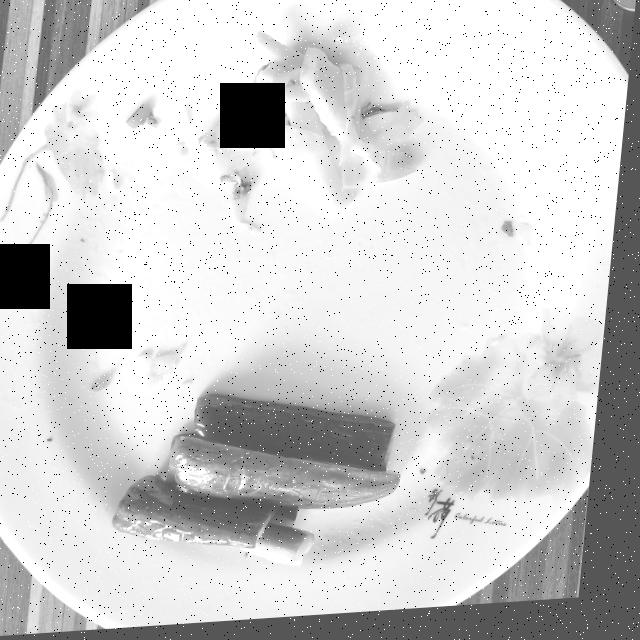coin: (610, 0, 637, 20)
cucumber: (124, 398, 410, 570)
